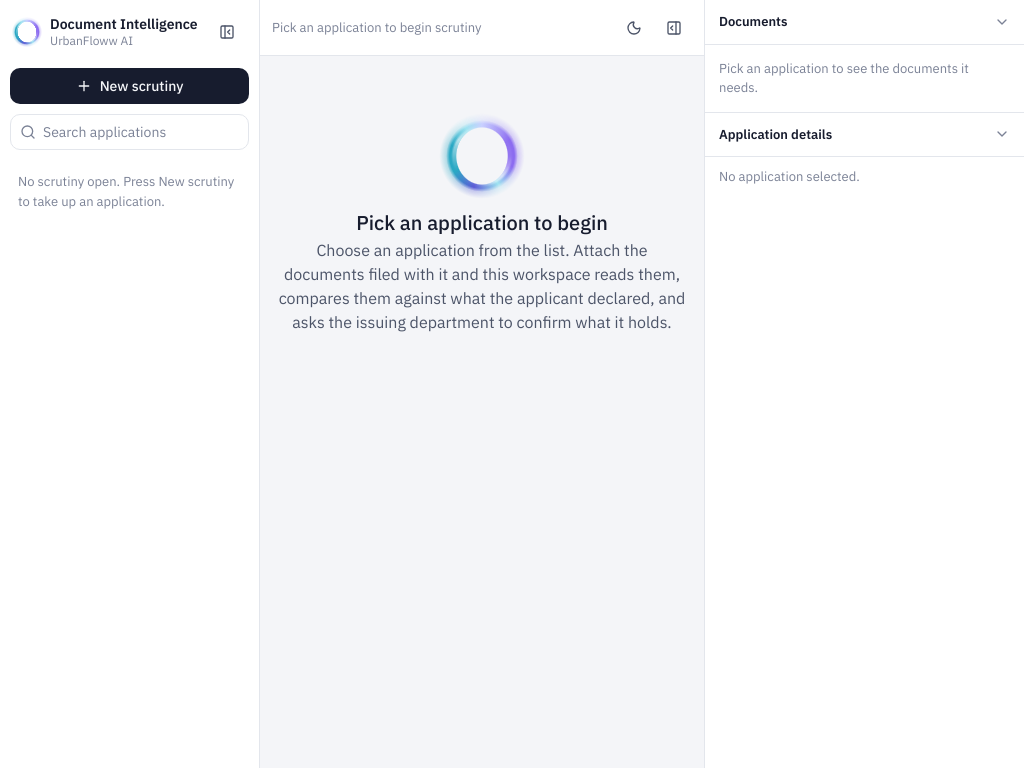
Test case: the workspace shell › can hide and restore the thread rail
Click the button "New scrutiny": (130, 86) [10,68,249,104]
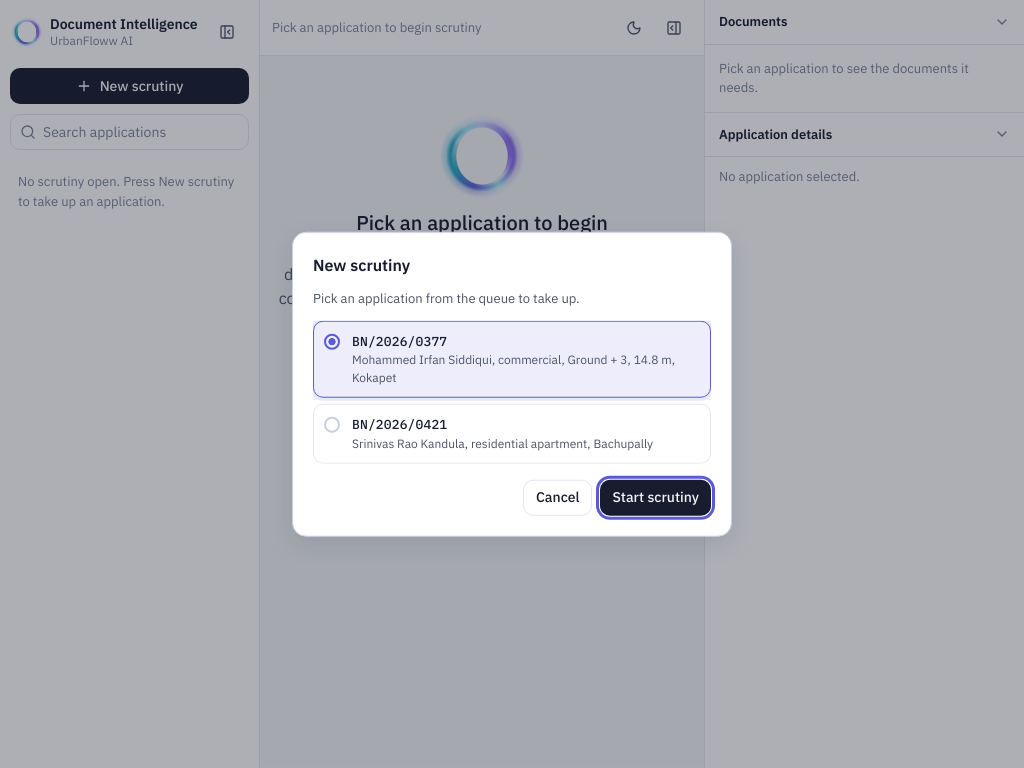
Click the text "BN/2026/0377": (400, 341) [352,332,447,349]
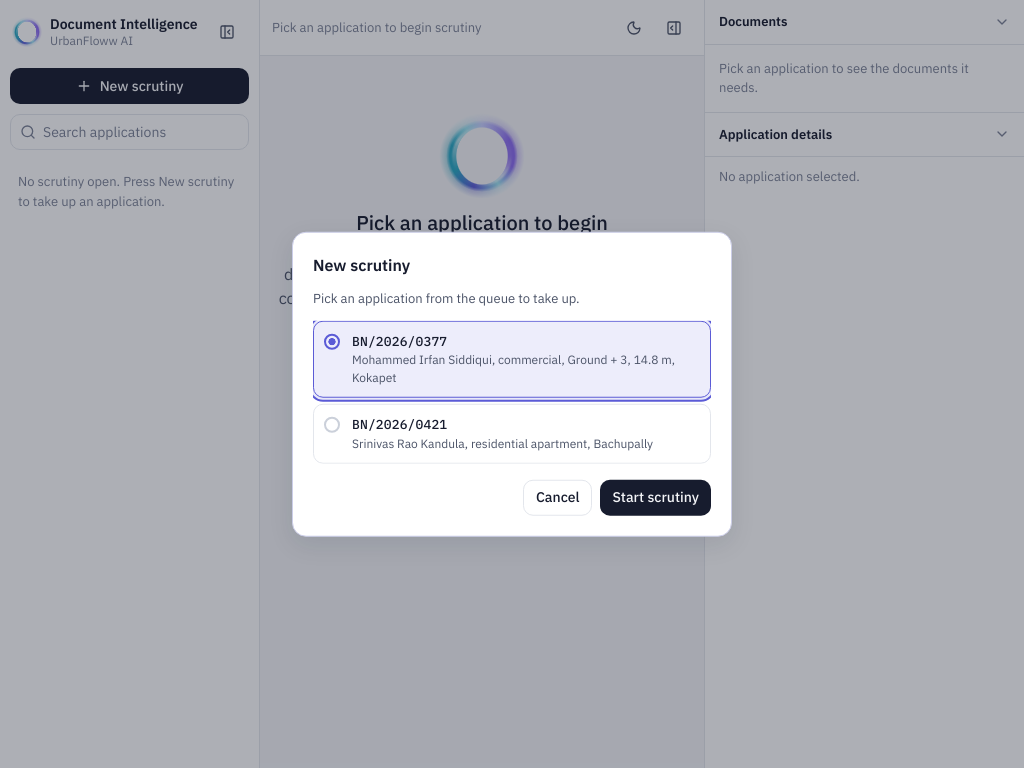
Click the button "Start scrutiny": (656, 497) [600,479,711,515]
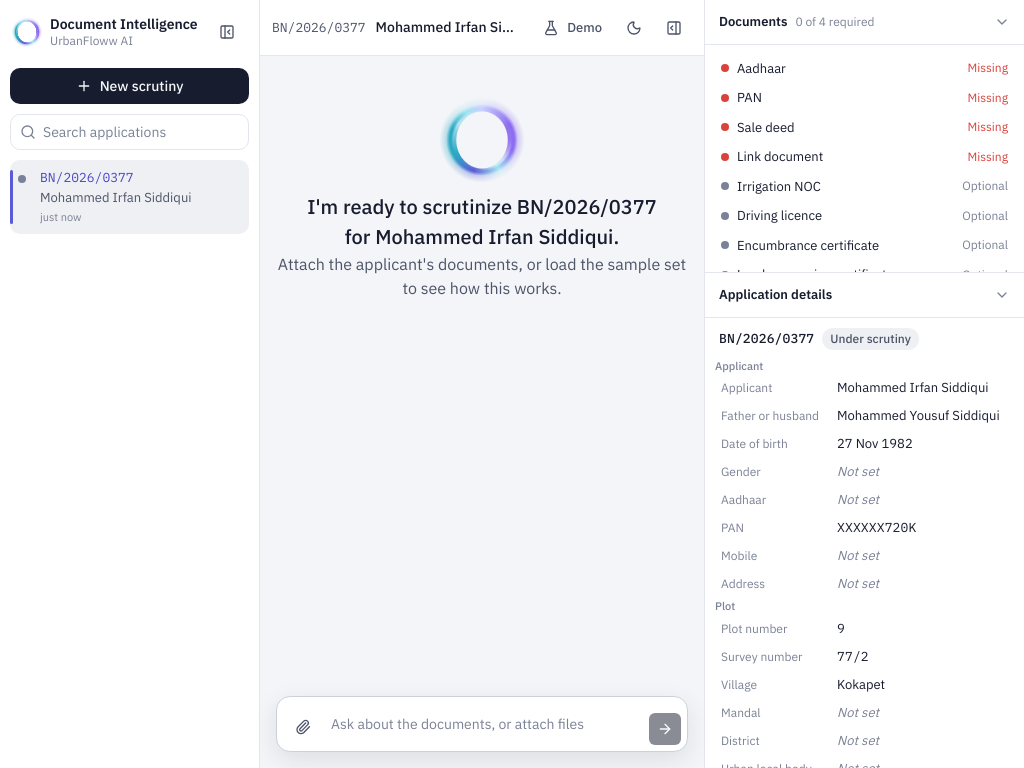
Expected: the text "Mohammed Irfan Siddiqui" below "UrbanFloww AI" is shown, [40,188,192,206]
Click the button named "collapse threads": (227, 32) [209,14,245,50]
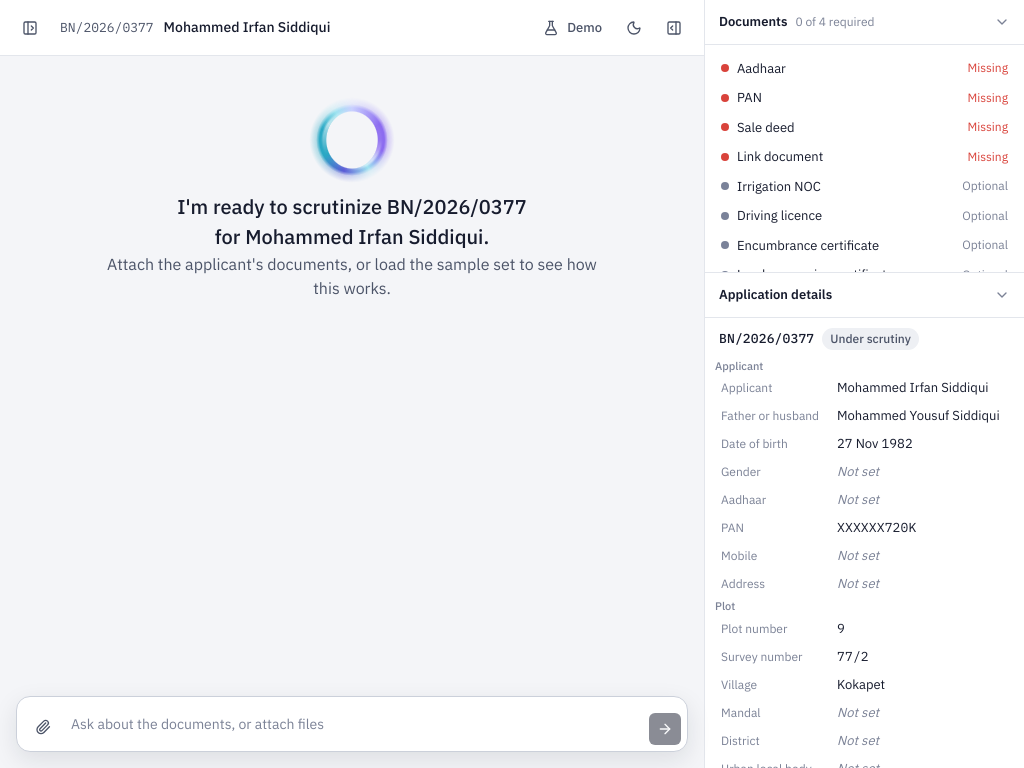
Click the button named "show threads": (30, 28) [12,10,48,46]
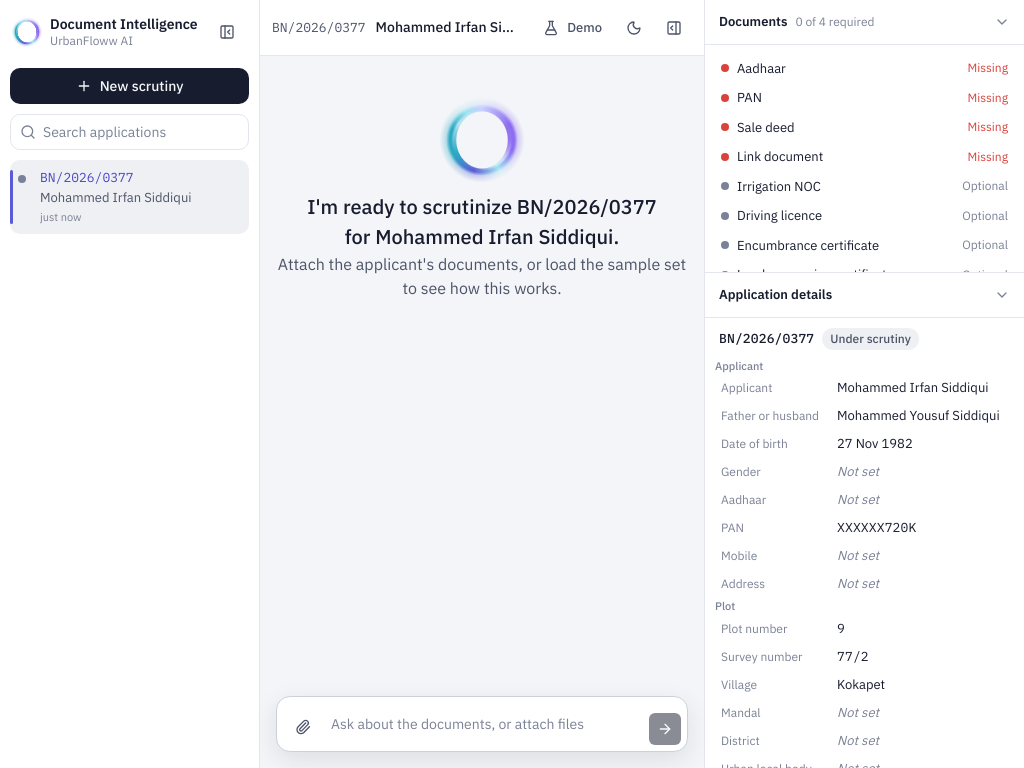
Expected: the element named "scrutiny threads" is shown, [0,0,260,767]
